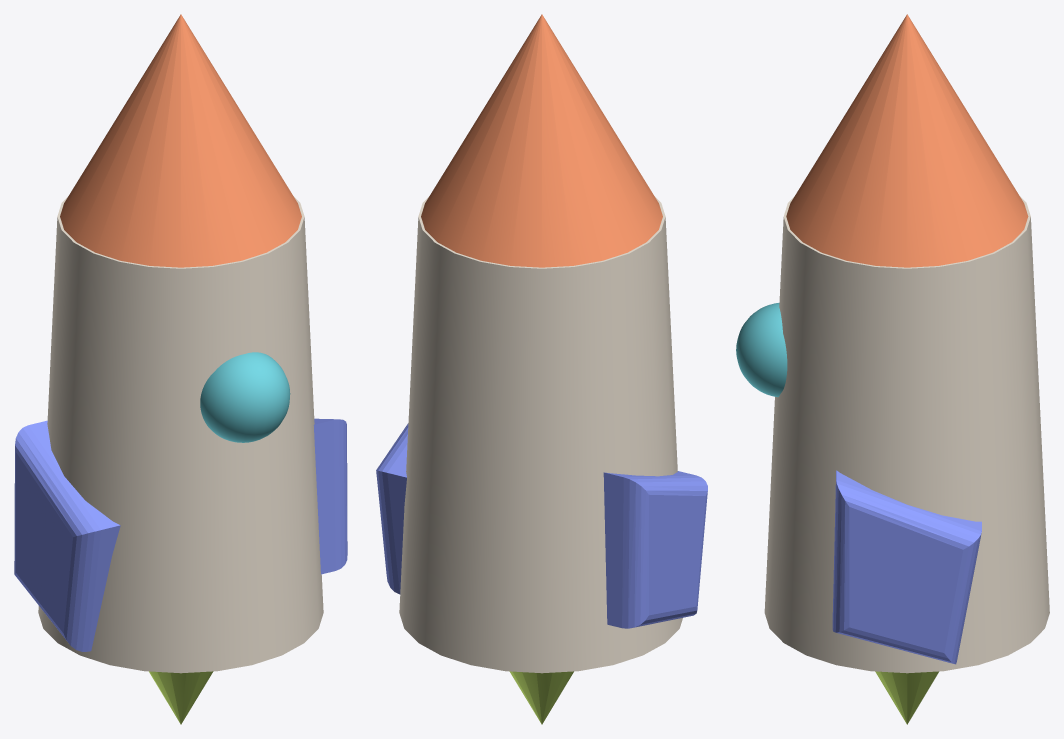
File: publish.glb
The picture shows the model from 3 angles, left to right: view 1: azimuth 30°, elevation 25°; view 2: azimuth 150°, elevation 25°; view 3: azimuth 270°, elevation 25°; orthographic projection.
Bounding box in the file's own units: 0.54 × 1.35 × 0.54.
